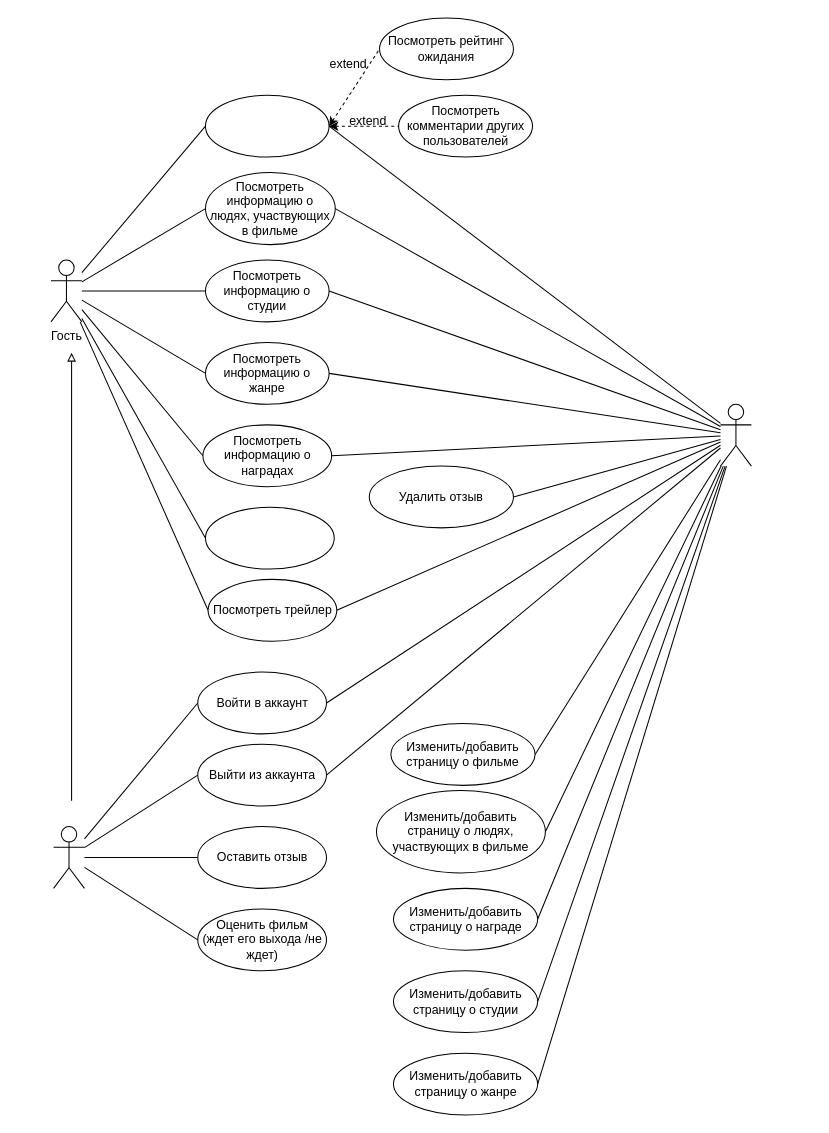
Some shapes in this 829 by 1133 pixel diagram are drawn without their labels. Here are the shapes that lost their labels. From the top down, the centre of each, then its label:
At (x=266, y=125): "Посмотреть информацию о фильме".
At (x=735, y=434): "Администратор".
At (x=269, y=537): "Зарегистрироваться".
At (x=68, y=857): "Пользователь".
